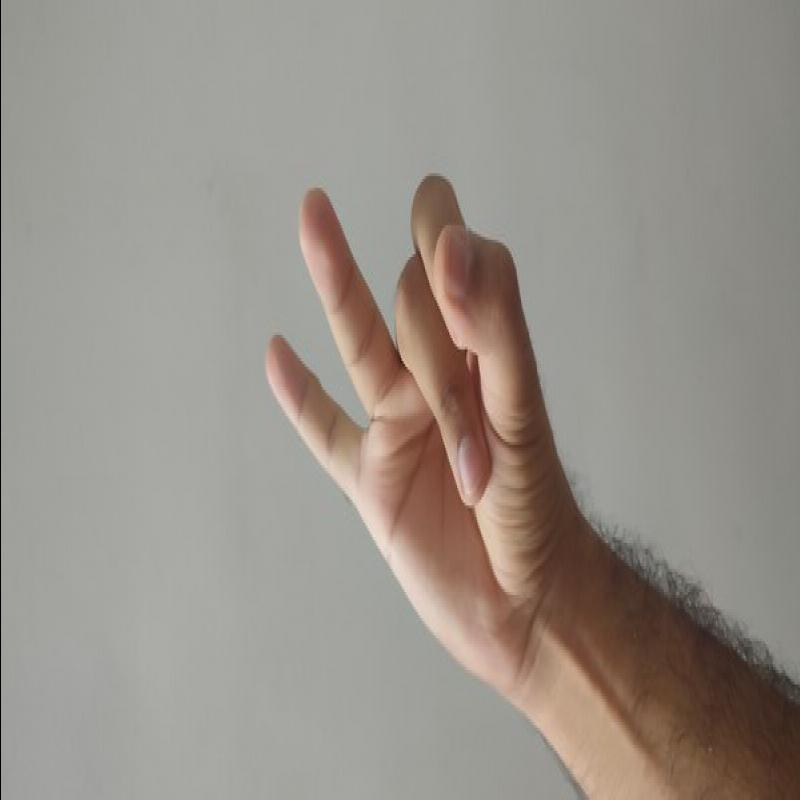Katakam: (245, 136, 608, 688)
